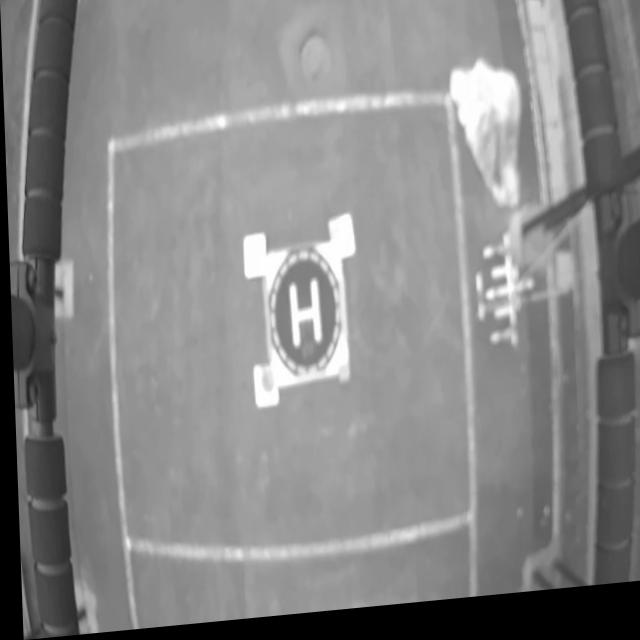Helipad: (288, 283, 320, 355)
